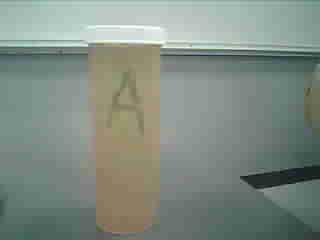Bottle A: (70, 17, 183, 238)
